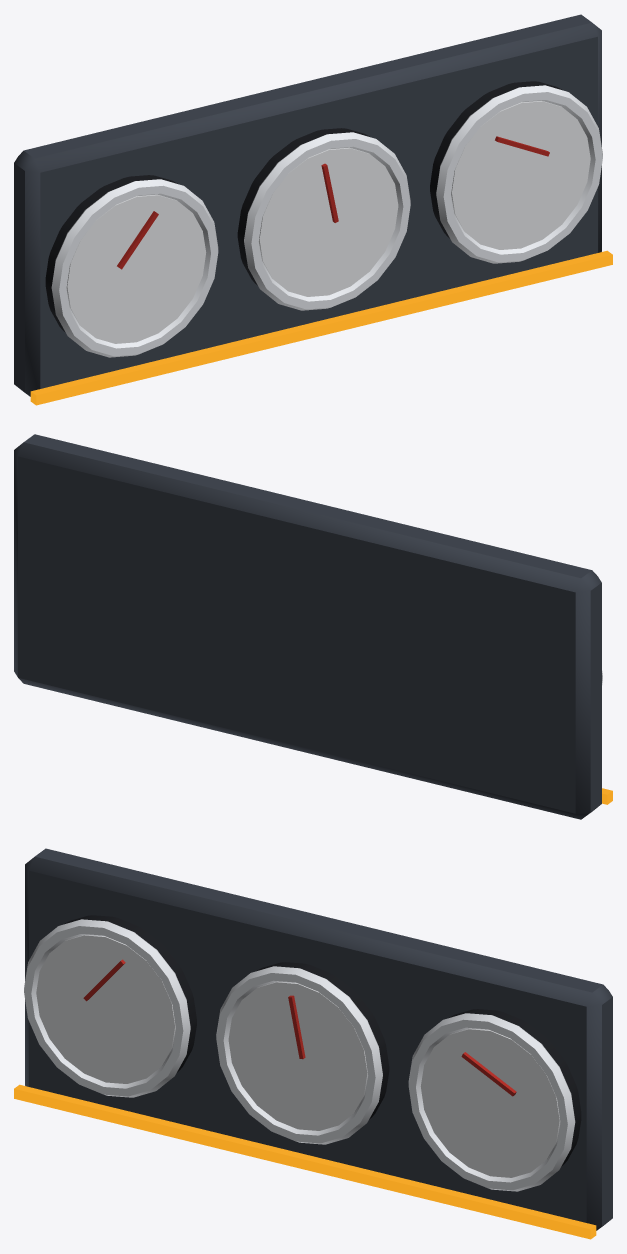
The model's file is instrument_gauge_cluster.glb.
3 views of the same model, one above another, from view 1: azimuth 30°, elevation 25°; view 2: azimuth 150°, elevation 25°; view 3: azimuth 330°, elevation 25° (orthographic).
Visible parts, largest first — view 1: instrument_gauge_cluster; view 2: instrument_gauge_cluster; view 3: instrument_gauge_cluster.
Part boxes in pixels (box(x1,y1,x2,y2)): instrument_gauge_cluster: box(14, 14, 612, 405); instrument_gauge_cluster: box(14, 434, 612, 819); instrument_gauge_cluster: box(14, 848, 612, 1239).
Bounding box in the file's own units: 0.6 × 0.24 × 0.062.
